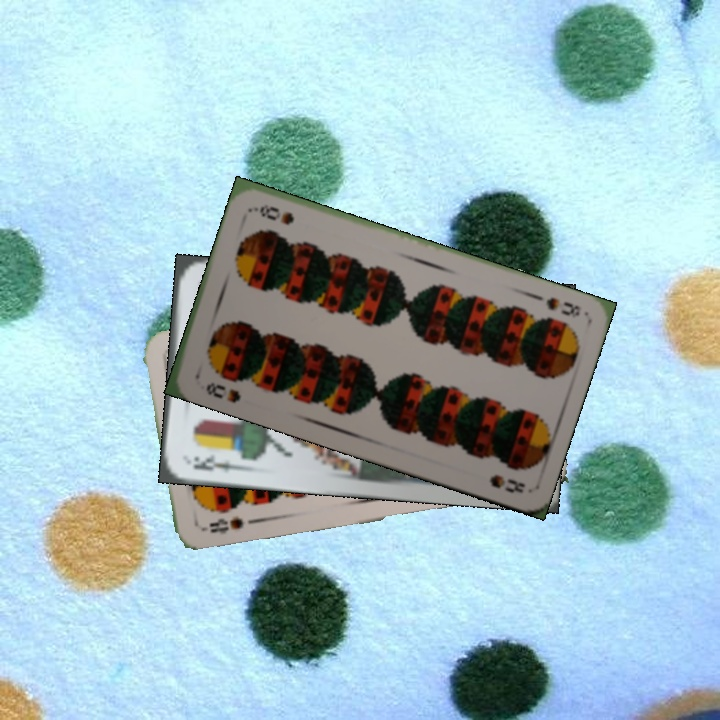EK: (189, 451, 244, 475)
S8: (201, 378, 244, 406), (197, 513, 246, 537), (542, 293, 584, 321)
